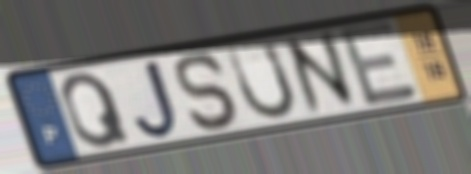E: (334, 17, 423, 110)
J: (132, 57, 182, 143)
N: (279, 27, 363, 120)
Q: (58, 68, 135, 151)
S: (173, 50, 245, 134)
U: (222, 37, 299, 123)
